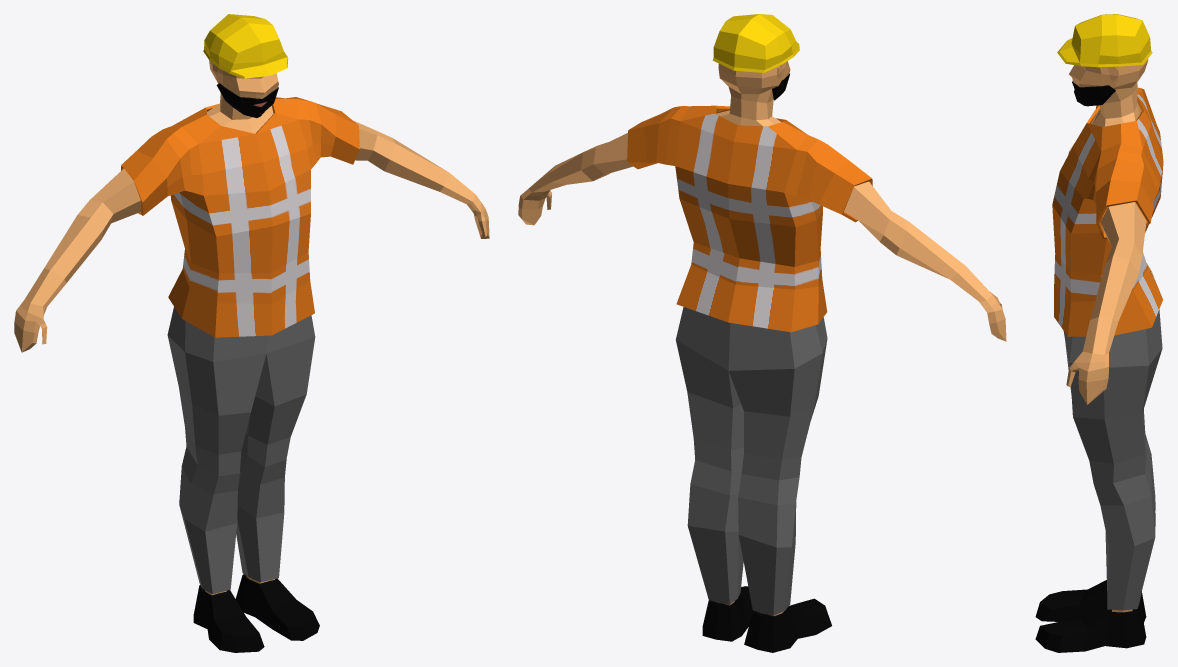
Rendered from WorkerNpc.fbx.
3 renders of one model, left to right at view 1: azimuth 30°, elevation 25°; view 2: azimuth 150°, elevation 25°; view 3: azimuth 270°, elevation 25°, orthographic. The views are drawn at different scales.
Parts seen in each view (by area): view 1: Worker; view 2: Worker; view 3: Worker.
Boxes of the visible parts, box(x1,y1,x2,y2) form: Worker: box(14, 14, 489, 652); Worker: box(518, 14, 1006, 652); Worker: box(1035, 14, 1163, 652).
Size of the model in its own units: 537 by 658 by 124.
12 materials, 2 textured.
